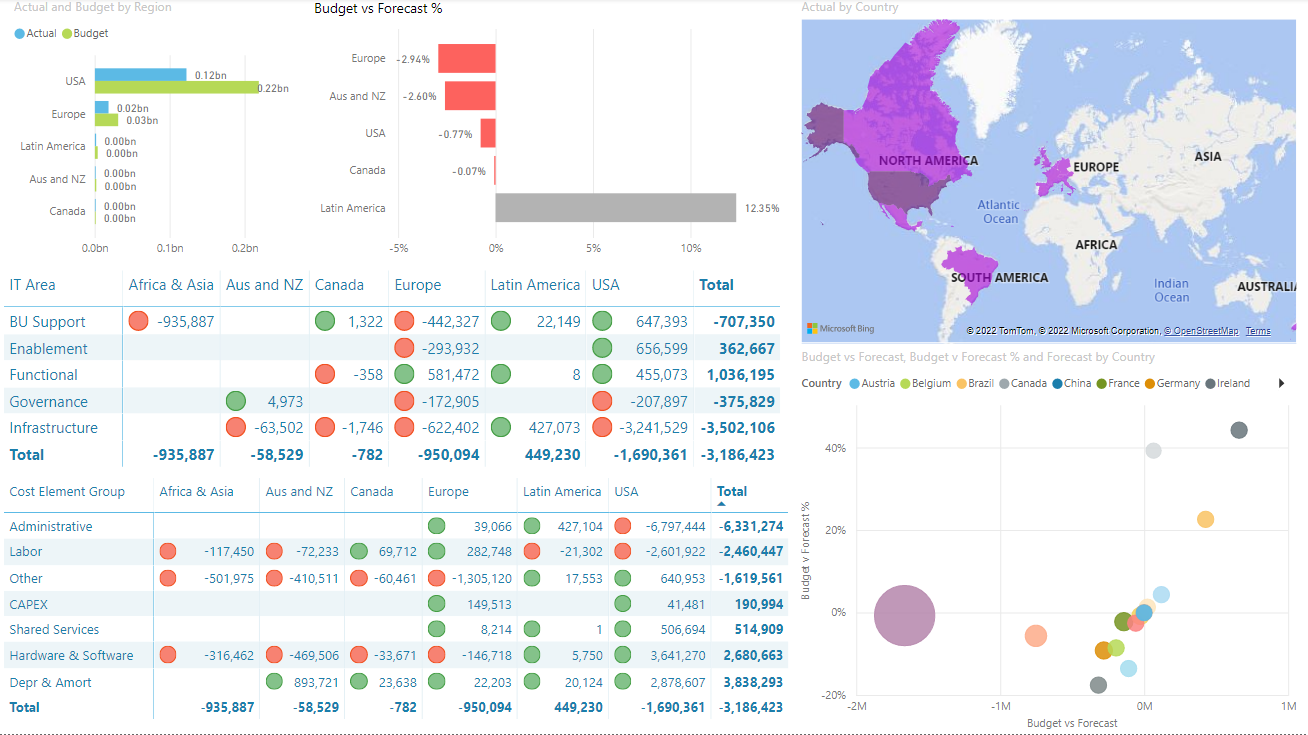

The page's visual inventory and layout, read from the dashboard file:
{"tool":"powerbi","page":{"name":"Regions","canvas":[1280,720],"ordinal":1},"visuals":[{"type":"clusteredBarChart","fields":{"Category":["Regions.Region"],"Y":["Sum(Actuals.Actual)","Sum(Budget.Budget)"]},"box":[9.8,0,293.4,261.6],"z":0},{"type":"clusteredBarChart","title":"Budget vs Forecast %","fields":{"Category":["Regions.Region"],"Y":["Budget.Budget % difference from Forecast"]},"box":[303.2,0,476.7,261.6],"z":1000},{"type":"pivotTable","fields":{"Columns":["Regions.Region"],"Rows":["Departments.IT Area"],"Values":["Budget.Budget vs Forecast"]},"box":[0,261.6,779.9,202.9],"z":2000},{"type":"pivotTable","fields":{"Columns":["Regions.Region"],"Values":["Budget.Budget vs Forecast"],"Rows":["CostElements.Cost Element Group"]},"box":[0,464.5,779.9,255.5],"z":3000},{"type":"filledMap","fields":{"Category":["Actuals.Country"]},"box":[779.9,0,493.9,342.3],"z":3001},{"type":"scatterChart","fields":{"Series":["Regions.Country"],"Y":["Budget.Budget % difference from Forecast"],"Size":["Sum(Forecast.Forecast)"],"X":["Budget.Budget vs Forecast"]},"box":[779.9,342.3,493.9,377.7],"z":3002}]}

Visuals, with their boxes in screenshot pixels (x1, y1, x2, y2), scaled from the page's 1280x720 canvas onto the 1308x735 screenshot:
clusteredBarChart - Regions.Region x Sum(Actuals.Actual): BBox(10, 0, 310, 267)
"Budget vs Forecast %" clusteredBarChart: BBox(310, 0, 797, 267)
pivotTable - Regions.Region x Departments.IT Area: BBox(0, 267, 797, 474)
pivotTable - Regions.Region x Budget.Budget vs Forecast: BBox(0, 474, 797, 734)
filledMap - Actuals.Country: BBox(797, 0, 1302, 349)
scatterChart - Regions.Country x Budget.Budget % difference from Forecast: BBox(797, 349, 1302, 734)
